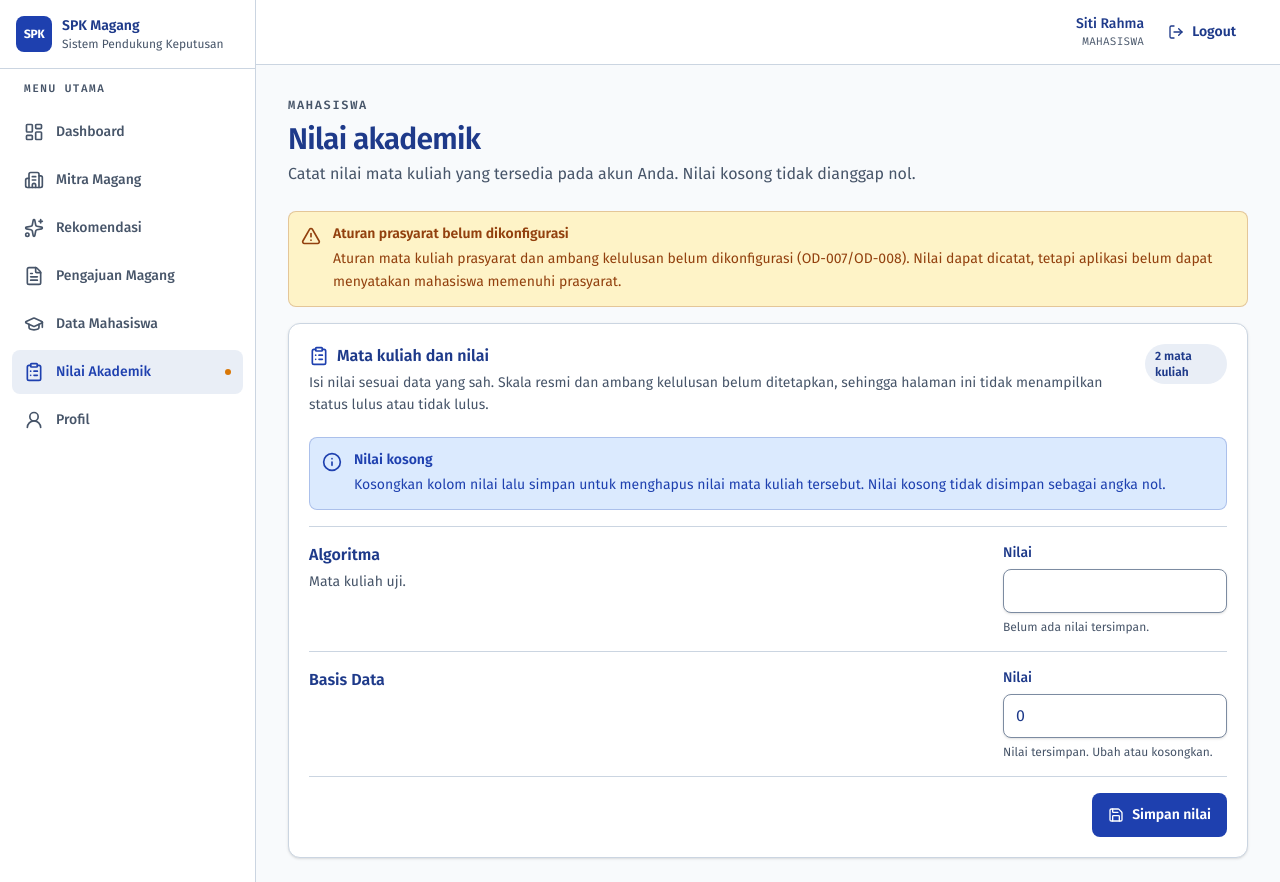
it: StudentGradesPage › menyimpan semua nilai, termasuk nilai nol dan nilai kosong sebagai null
In the number field labelled "Nilai" in the row of "Mata kuliah uji.": coordinates (1115, 591) [1003,569,1227,613], type "80"
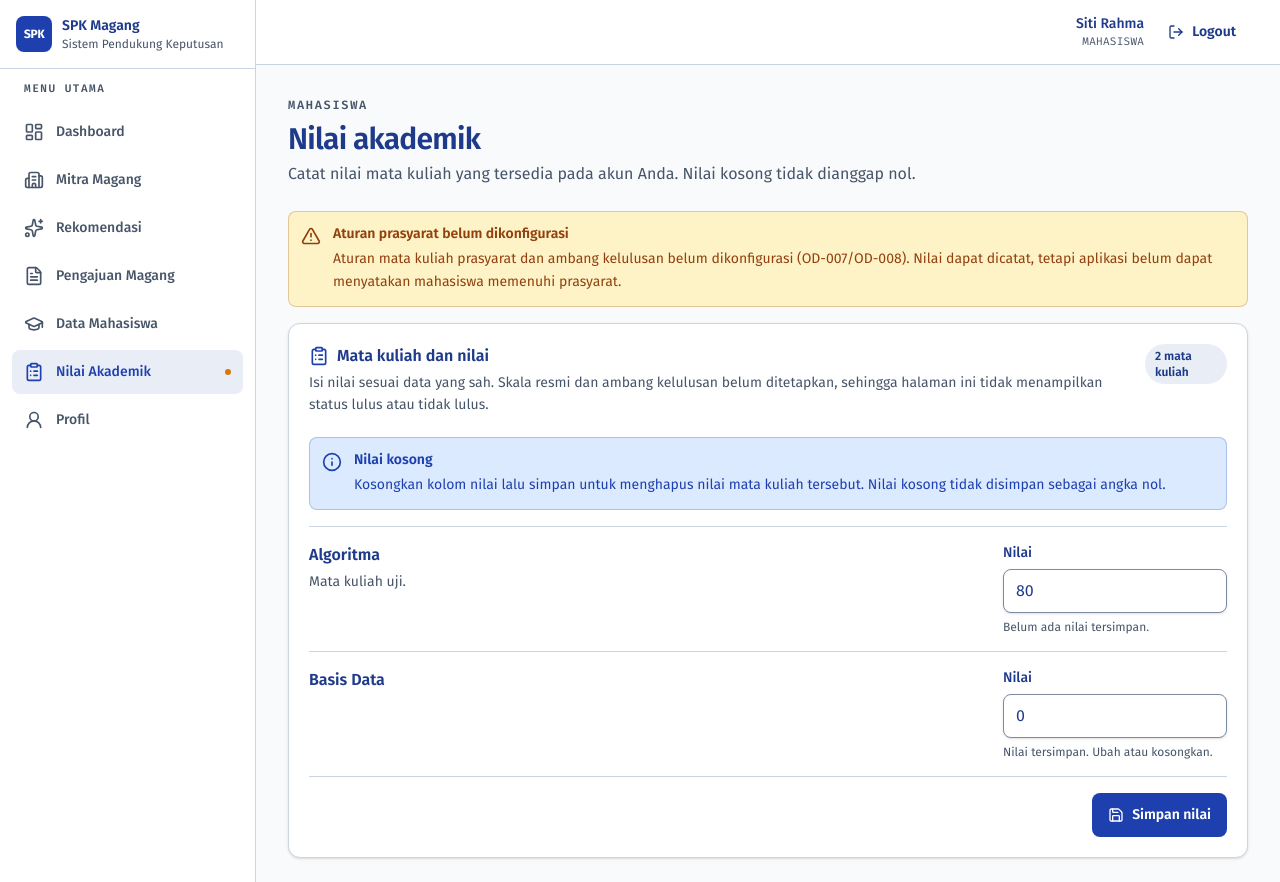
Click the button "Simpan nilai": coordinates (1160, 815) [1092,793,1227,837]
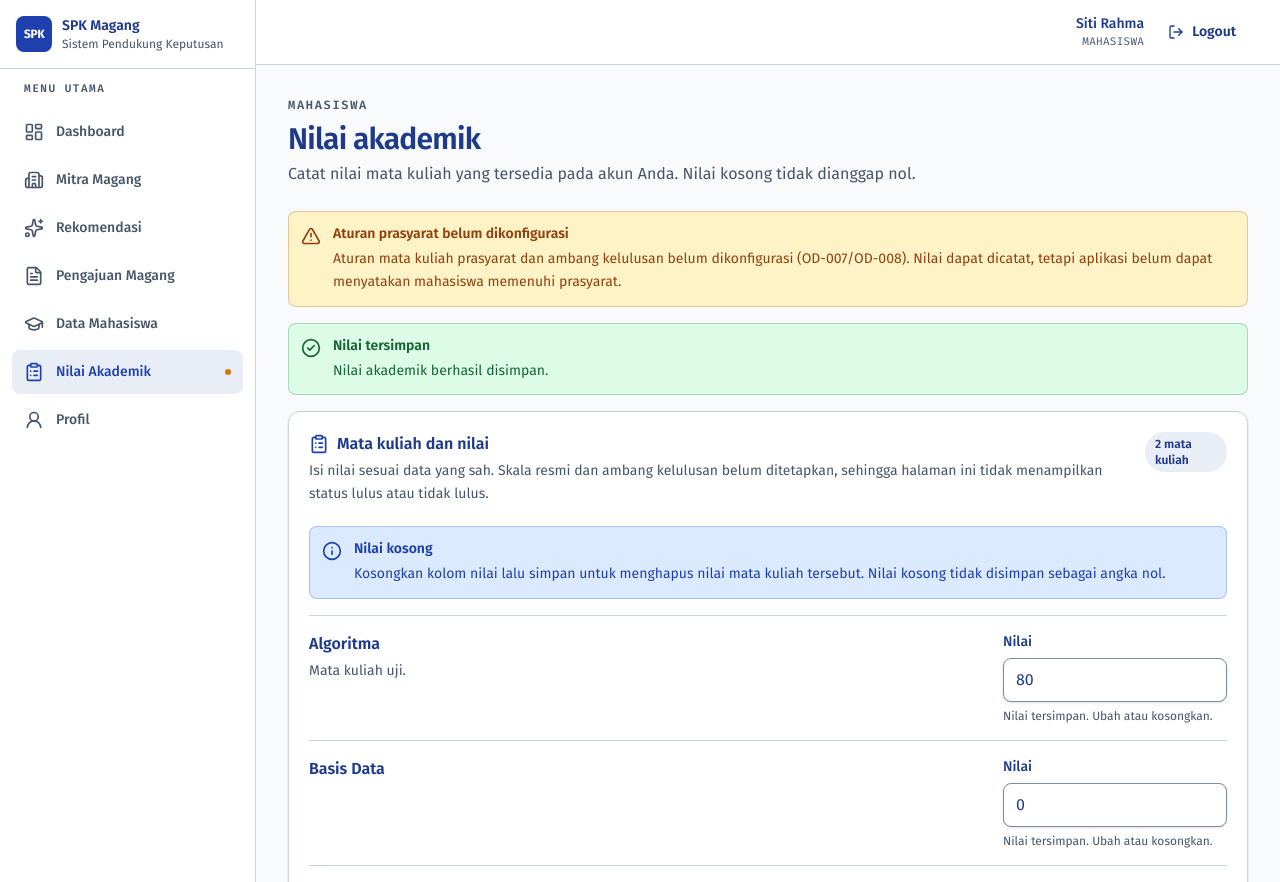
Expected: the text "Nilai akademik berhasil disimpan." is shown, [333,360,548,382]
